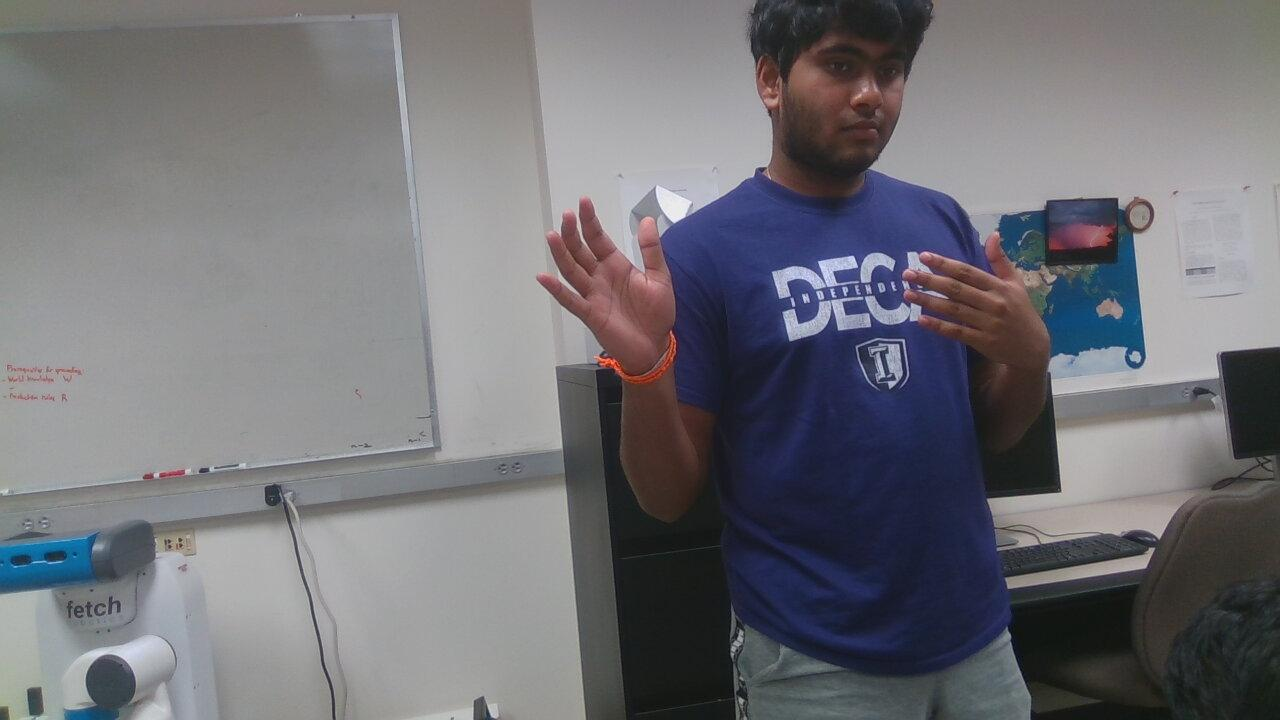hands: (531, 192, 695, 381), (896, 229, 1080, 373)
